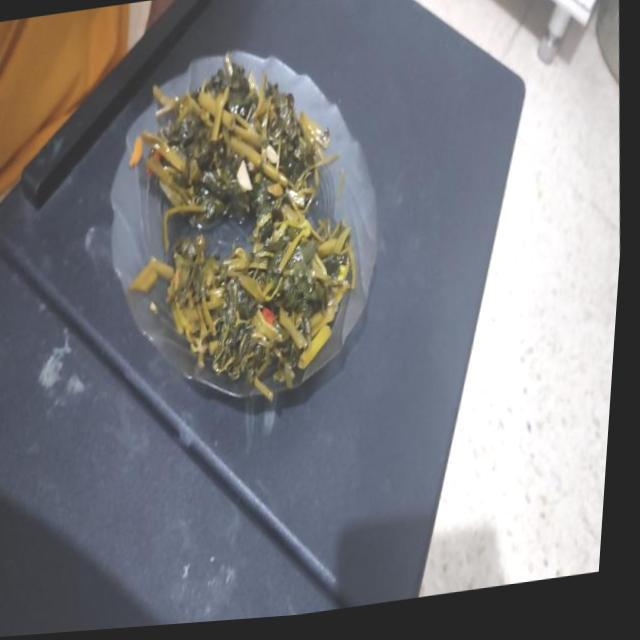tumis_kangkung: (166, 214, 355, 398), (140, 52, 337, 227)
